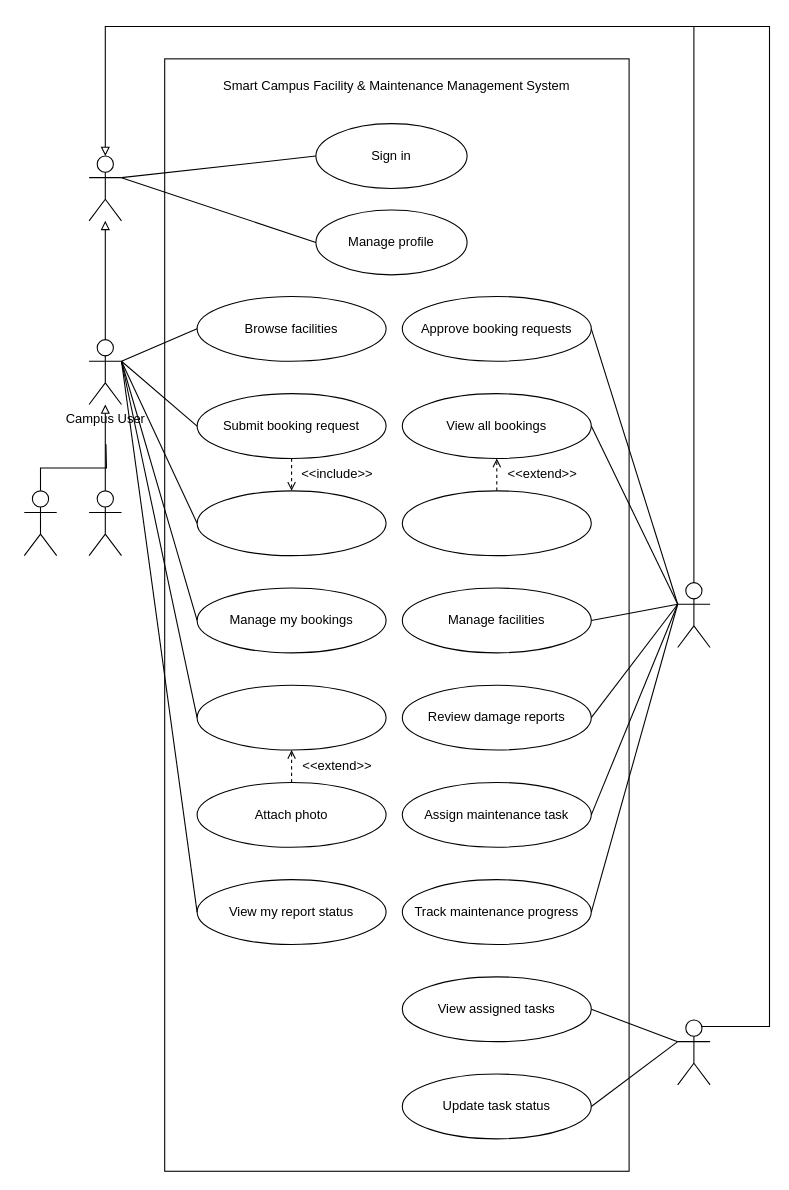
This 789x1190 diagram has some shape labels left out. The centre of each missing label's shape, as x and y in pixels:
"Administrator" goes at (x=693, y=614).
"Cancel any booking" goes at (x=496, y=523).
"Check availability" goes at (x=291, y=523).
"Maintenance personnel" goes at (x=693, y=1052).
"Report damage" goes at (x=291, y=717).
"Staff" goes at (x=105, y=523).
"Student" goes at (x=40, y=523).
"User" goes at (x=105, y=188).
